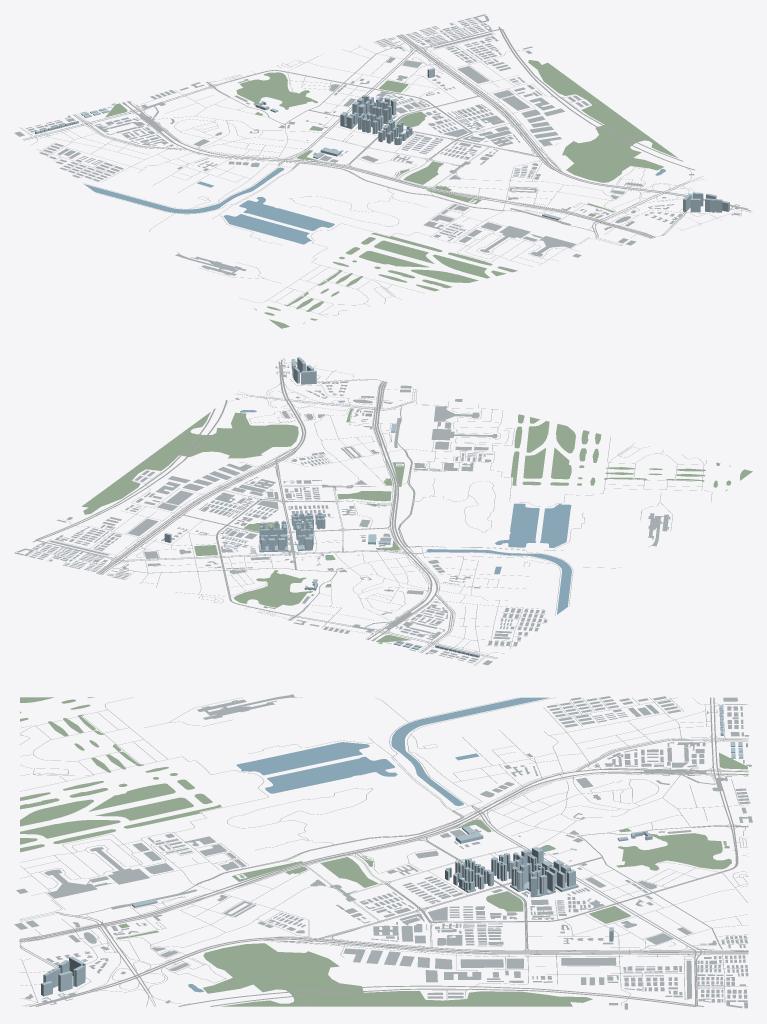
Rendered from overview-known--6_3.glb.
3 views of the same model, one above another, from view 1: azimuth 30°, elevation 25°; view 2: azimuth 150°, elevation 25°; view 3: azimuth 270°, elevation 25° (orthographic). The views are drawn at different scales.
Bounding box in the file's own units: 4077 × 112 × 4039.
